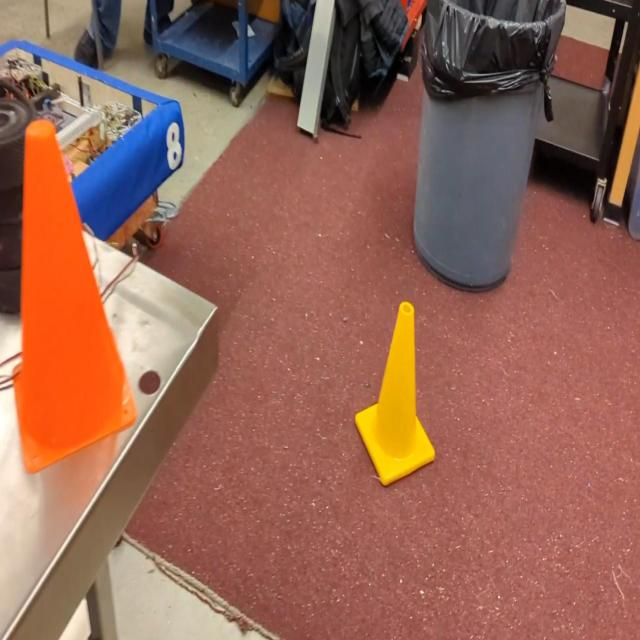frc_cone: (355, 304, 436, 488)
